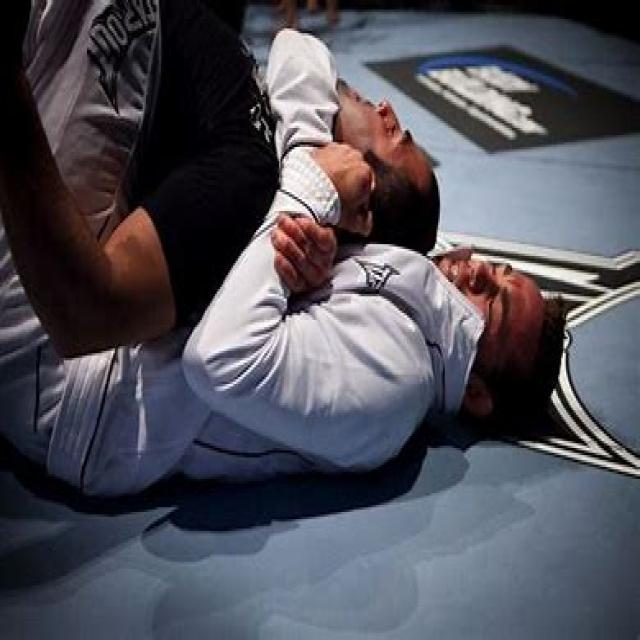fight: (100, 0, 618, 554)
